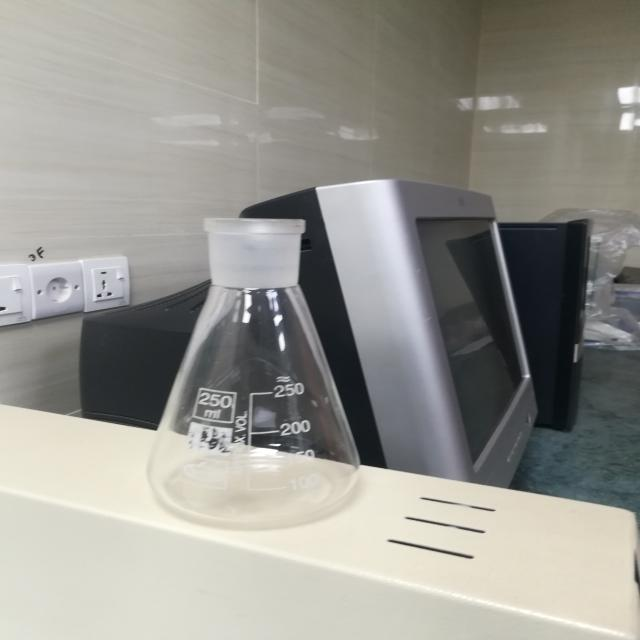Conical_Flask: (118, 170, 424, 542)
